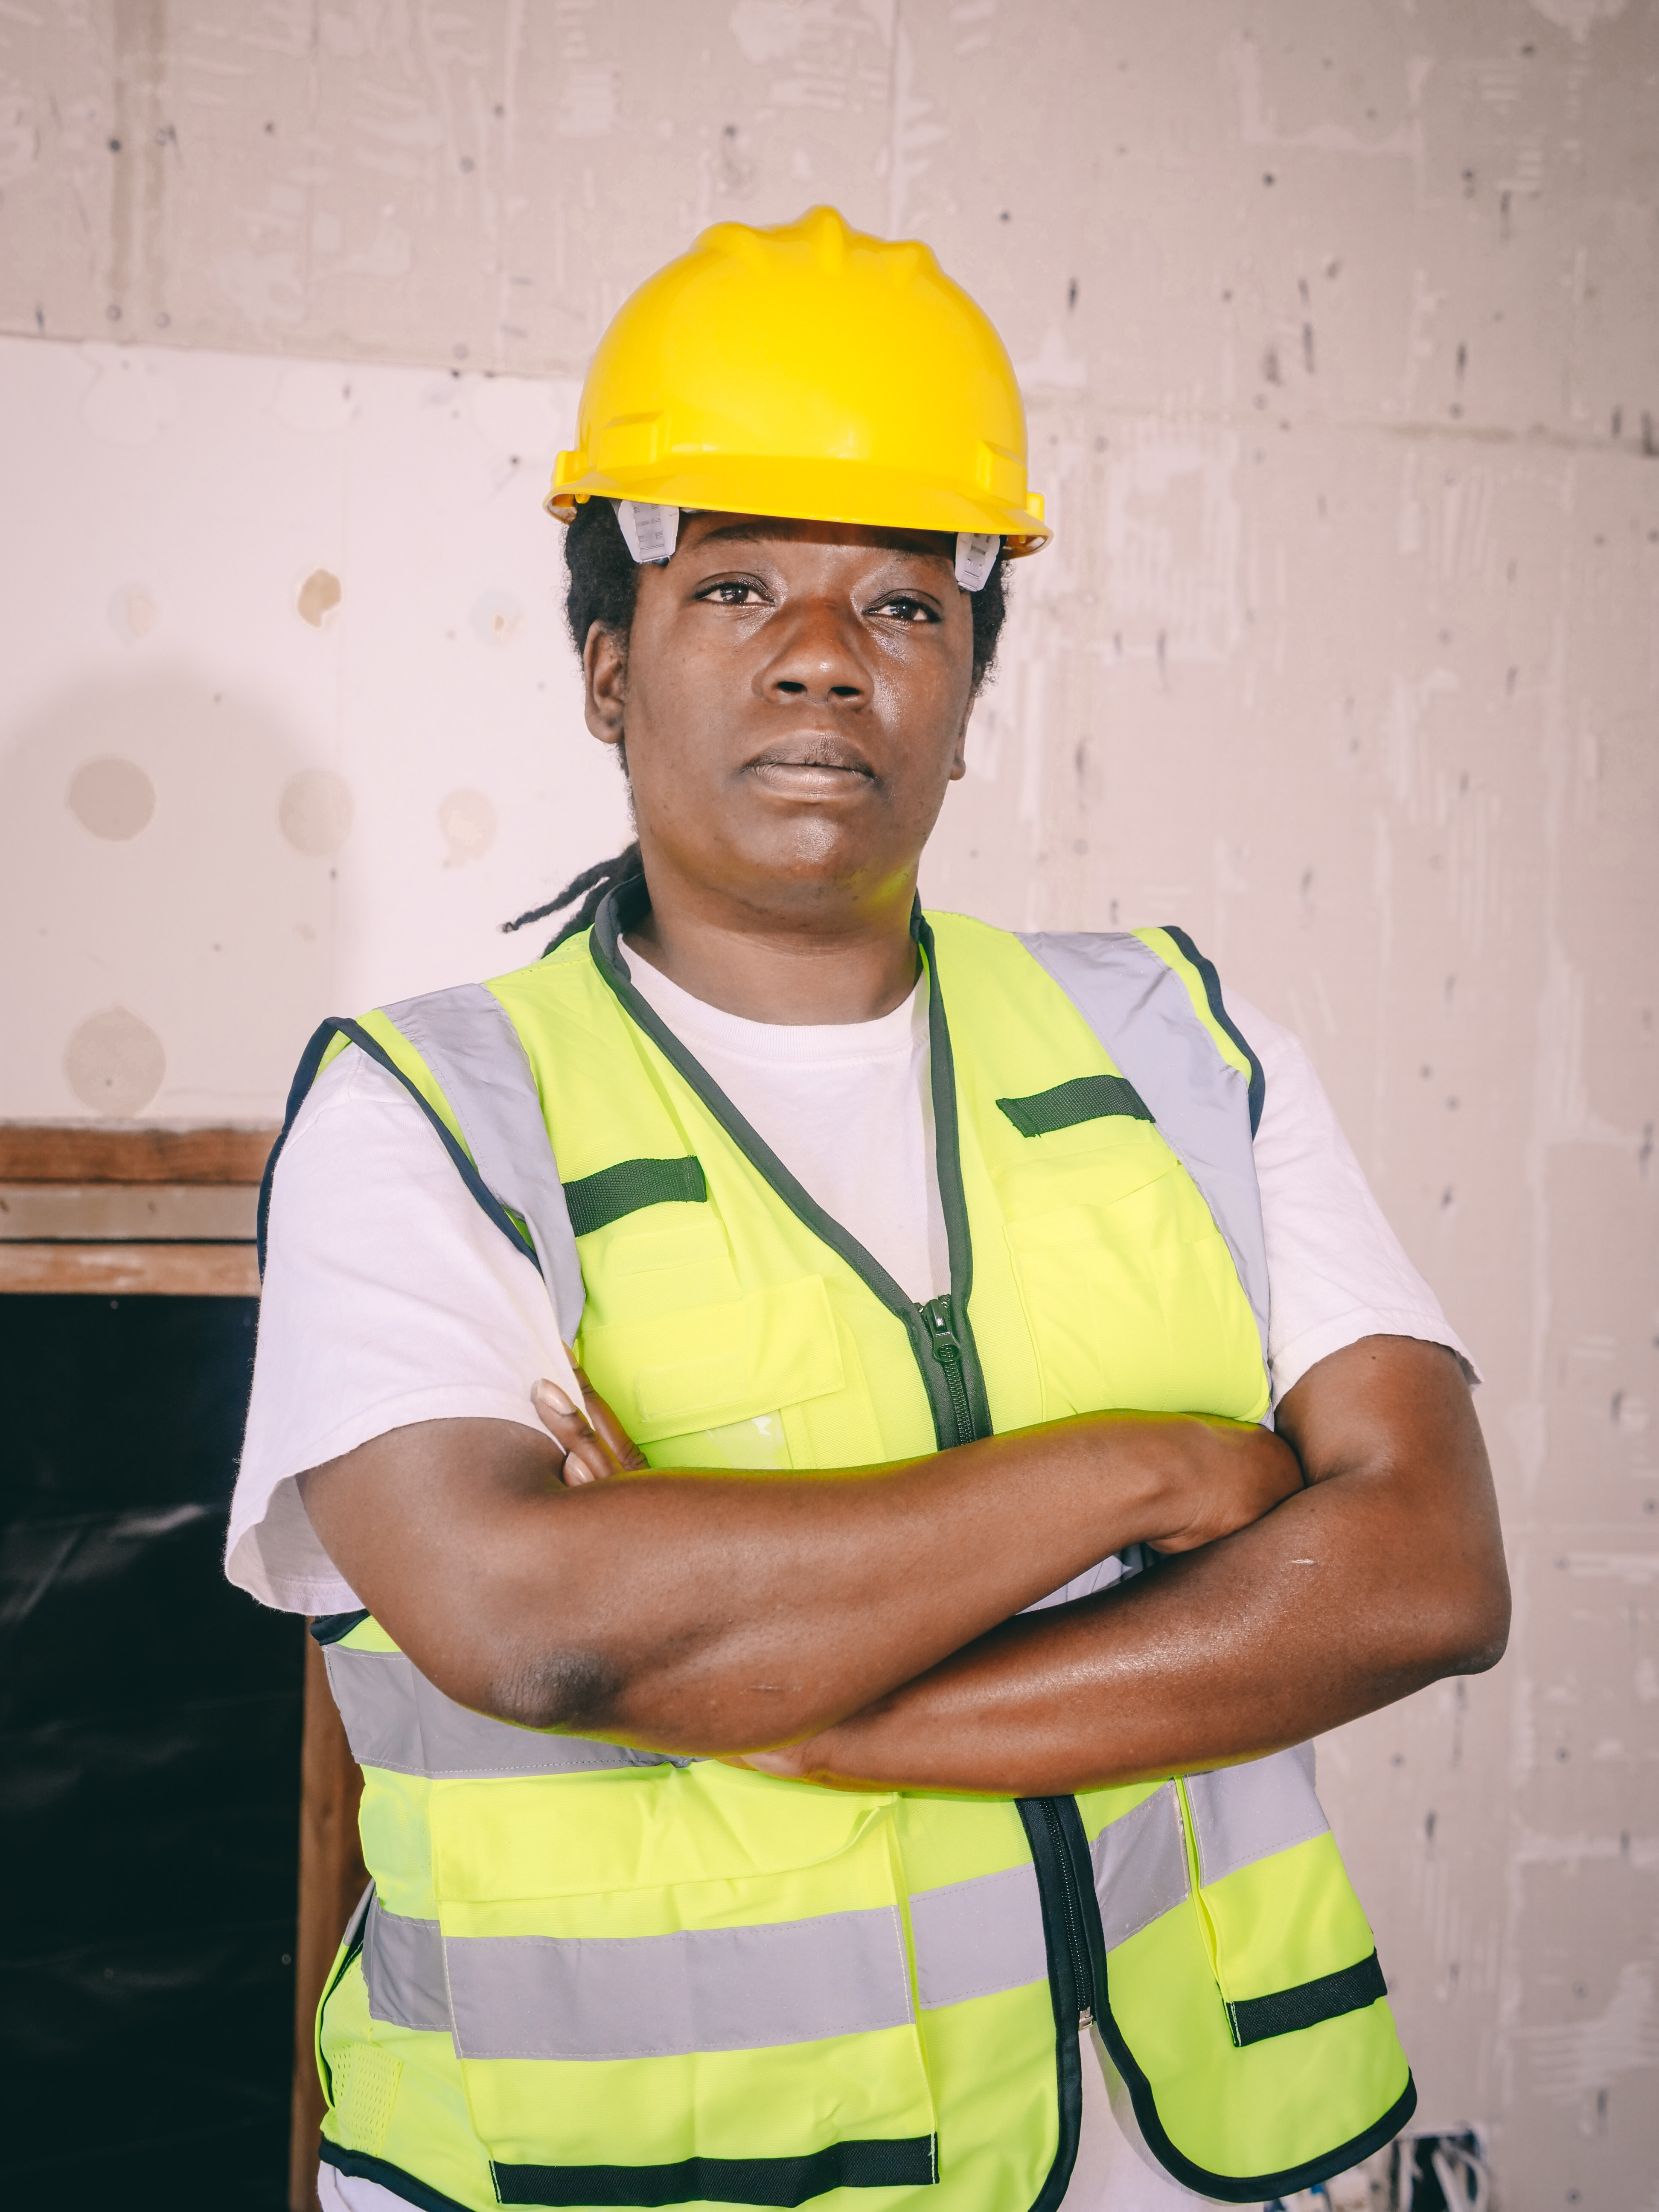Helmet: (532, 181, 1094, 956)
Reflective vest: (249, 888, 1431, 2210)
